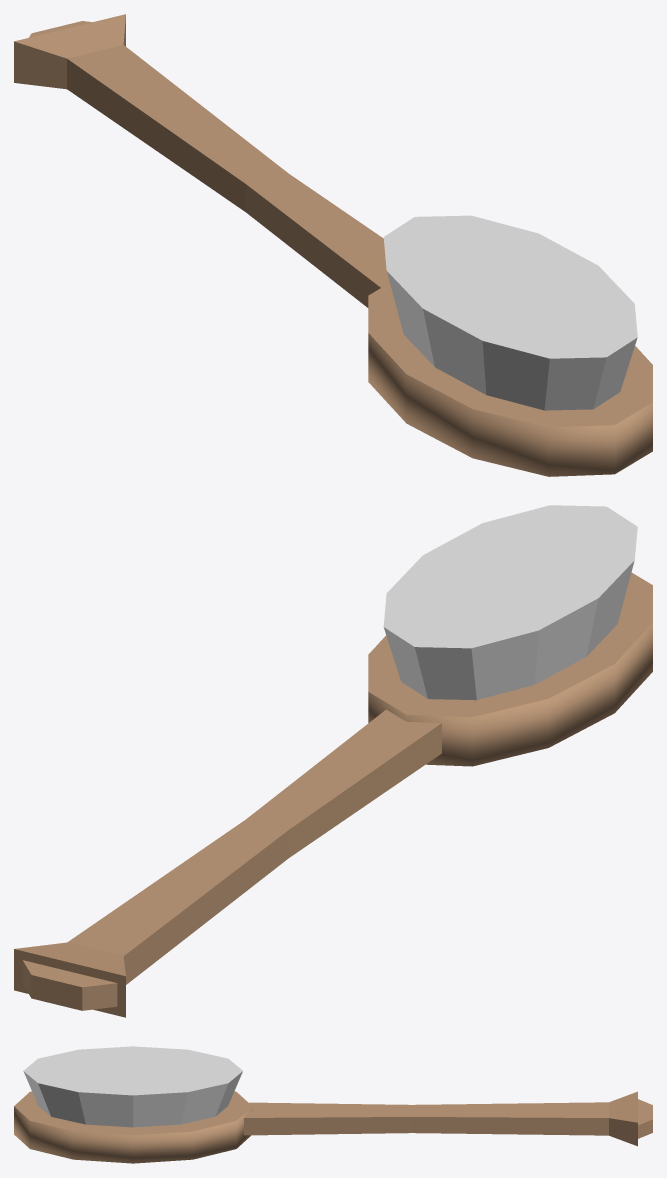
The model's file is hair_brush.glb.
3 renders of one model, top to bottom at view 1: azimuth 30°, elevation 25°; view 2: azimuth 150°, elevation 25°; view 3: azimuth 270°, elevation 25°, orthographic. The views are drawn at different scales.
Visible parts, largest first — view 1: Hair Brush; view 2: Hair Brush; view 3: Hair Brush.
Boxes of the visible parts, box(x1,y1,x2,y2) form: Hair Brush: box(14, 14, 652, 476); Hair Brush: box(14, 505, 652, 1017); Hair Brush: box(14, 1046, 652, 1163).
Size of the model in its own units: 0.0489 by 0.0249 by 0.2266.
Materials: 1 (1 with a texture image).
